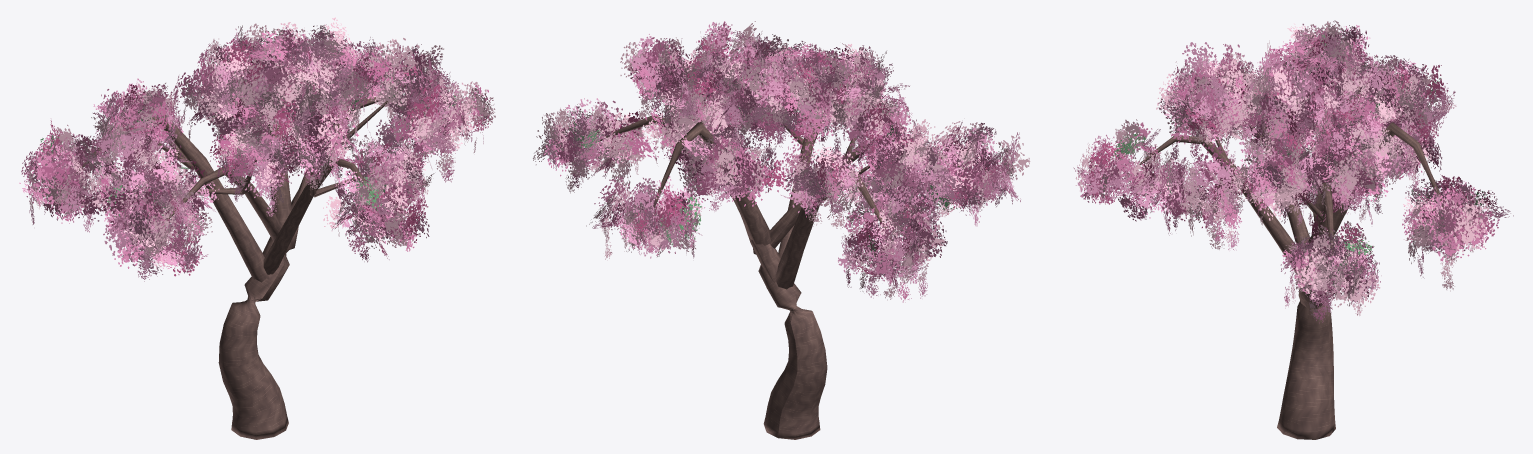
The model's file is Tree_Cherry_03_TwistedTwin.glb.
3 views of the same model, side by side, from view 1: azimuth 30°, elevation 25°; view 2: azimuth 150°, elevation 25°; view 3: azimuth 270°, elevation 25° (orthographic). The views are drawn at different scales.
Visible parts, largest first — view 1: Tree_Cherry_03_TwistedTwin; view 2: Tree_Cherry_03_TwistedTwin; view 3: Tree_Cherry_03_TwistedTwin.
Boxes of the visible parts, x1=… form: Tree_Cherry_03_TwistedTwin: x1=19, y1=17, x2=495, y2=439; Tree_Cherry_03_TwistedTwin: x1=533, y1=21, x2=1030, y2=439; Tree_Cherry_03_TwistedTwin: x1=1073, y1=20, x2=1513, y2=439.
Size of the model in its own units: 8.59 by 7.27 by 7.46.
Materials: 2 (2 with a texture image).
